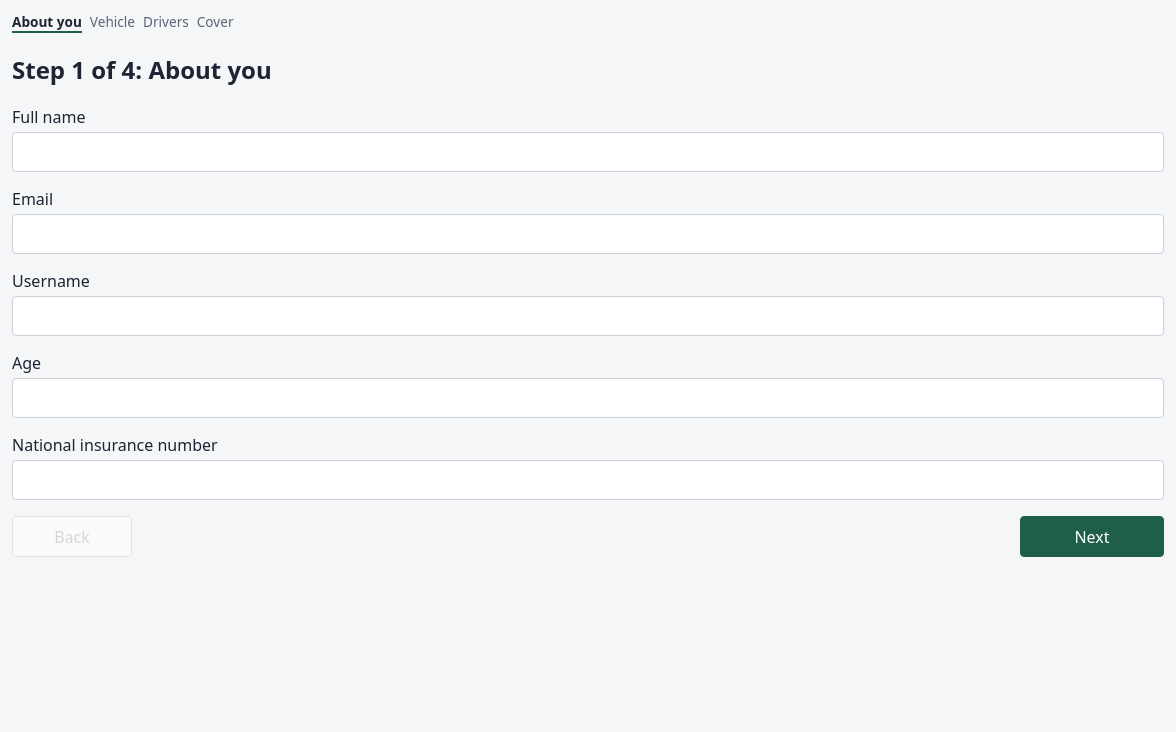
Test: moving between steps › Back does not validate, so a half-filled step can be left
This screenshot has width=1176, height=732.
Type "Sam Rao" into the field labelled "Full name".
click(588, 152); type("Sam Rao")  # box left=12, top=132, right=1164, bottom=172
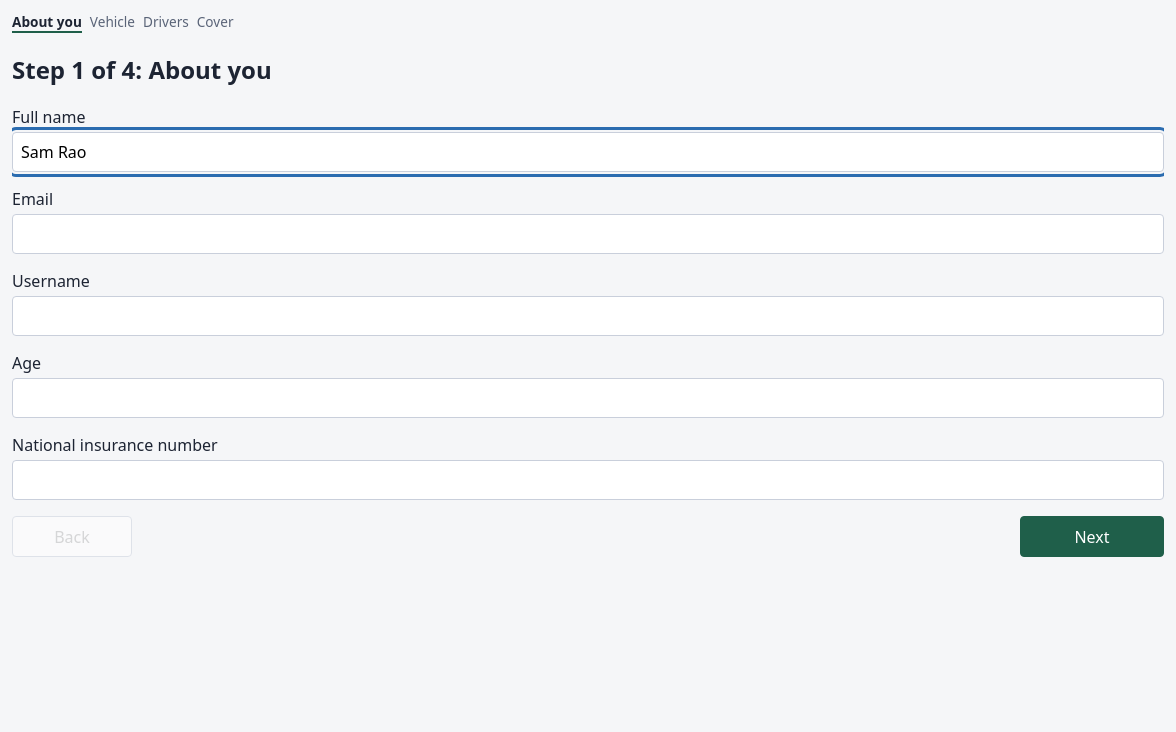
Type "sam@example.com" into the field labelled "Email".
click(588, 234); type("sam@example.com")  # box left=12, top=214, right=1164, bottom=254
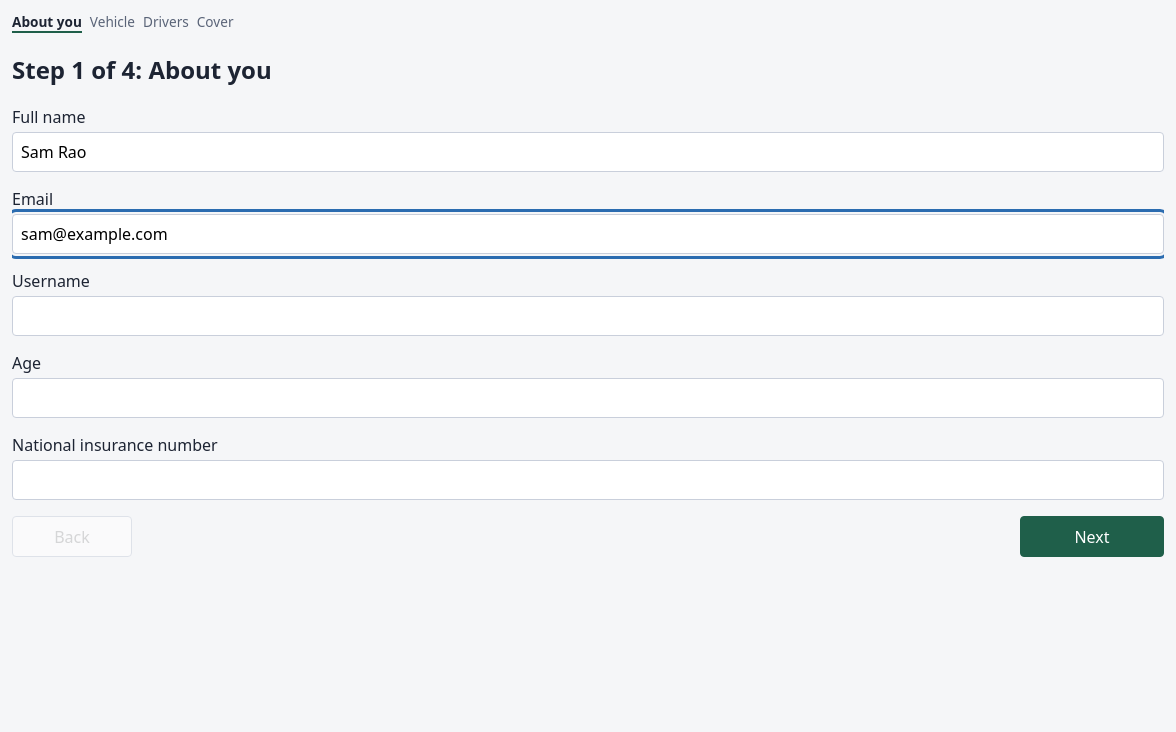
Type "sam_rao2" into the field labelled "Username".
click(588, 316); type("sam_rao2")  # box left=12, top=296, right=1164, bottom=336
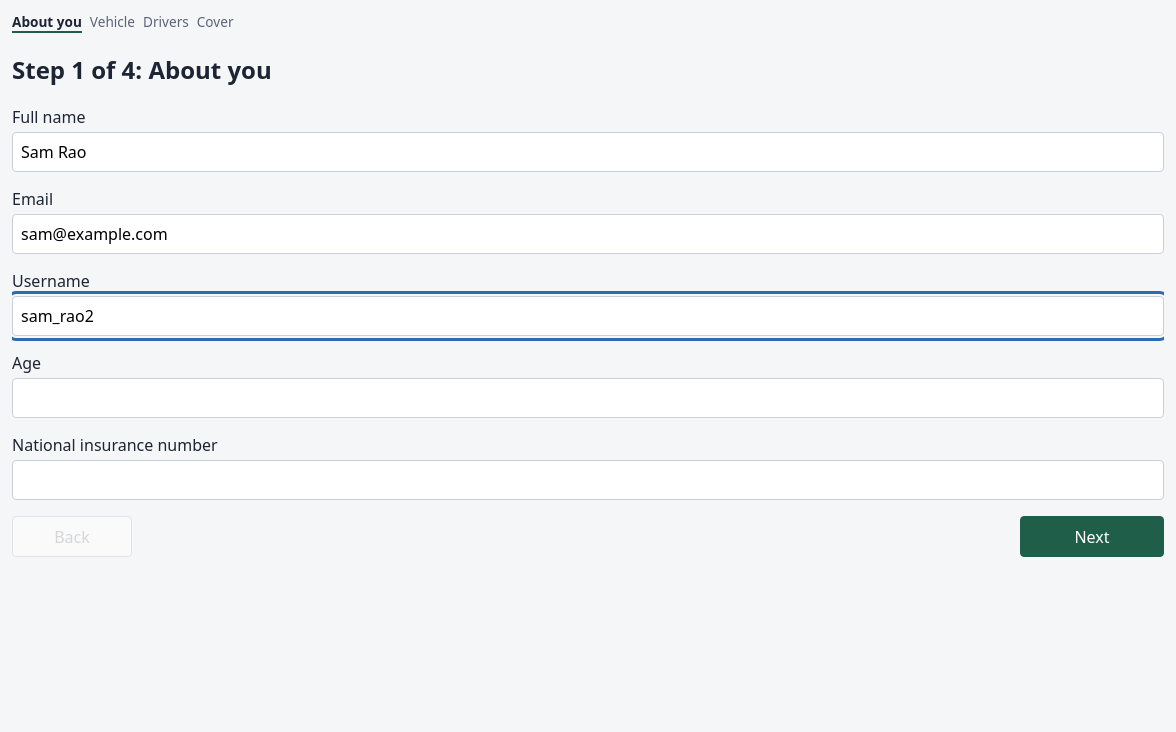
Type "34" into the number field labelled "Age".
click(588, 398); type("34")  # box left=12, top=378, right=1164, bottom=418
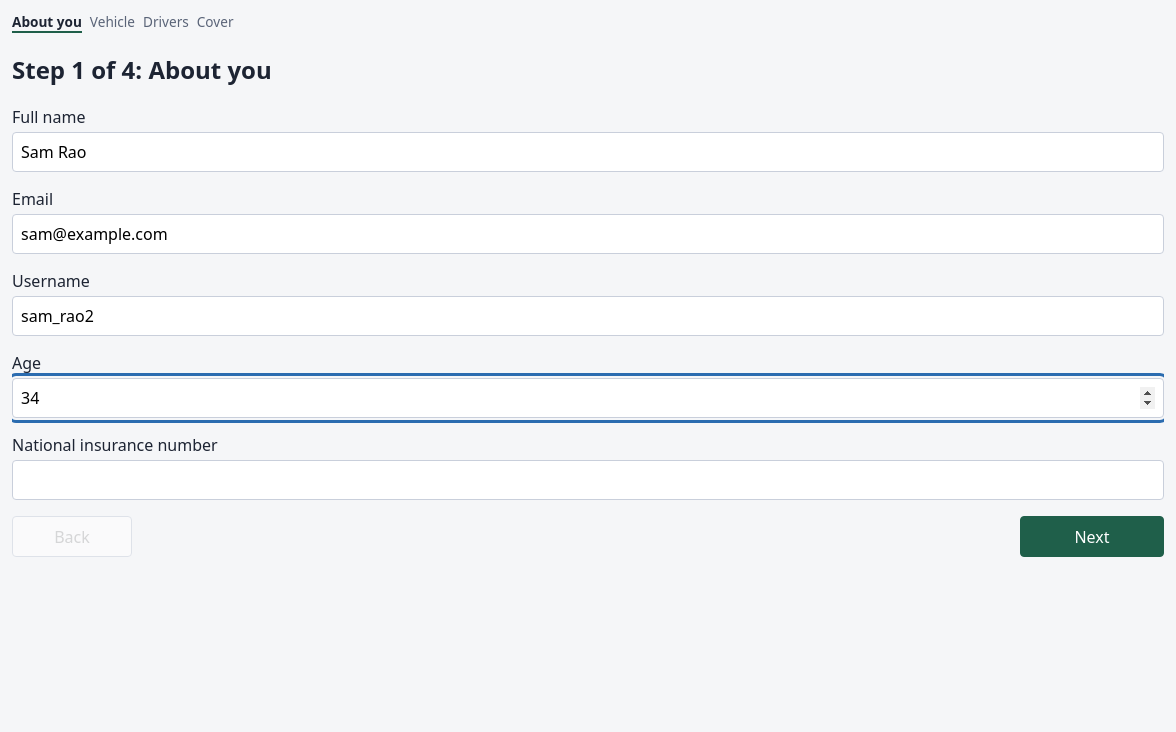
Click the button "Next".
click(1092, 537)  # box left=1020, top=516, right=1164, bottom=557
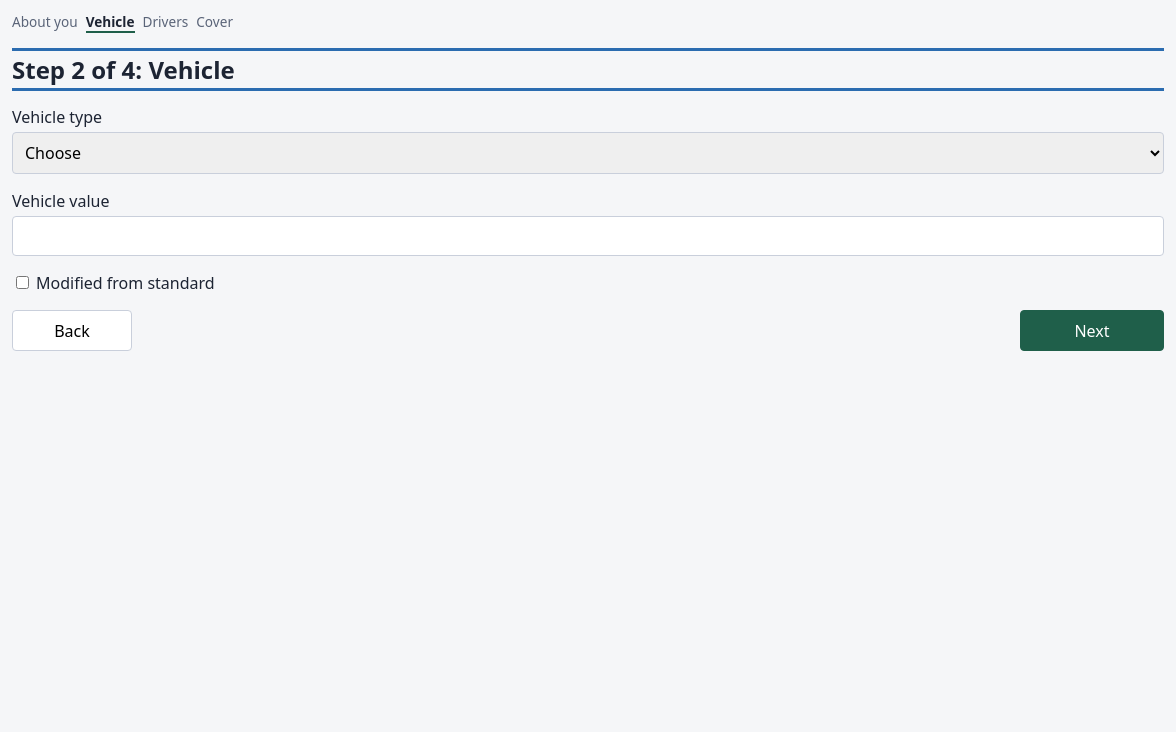
Click the button "Back".
click(72, 331)  # box left=12, top=310, right=132, bottom=351
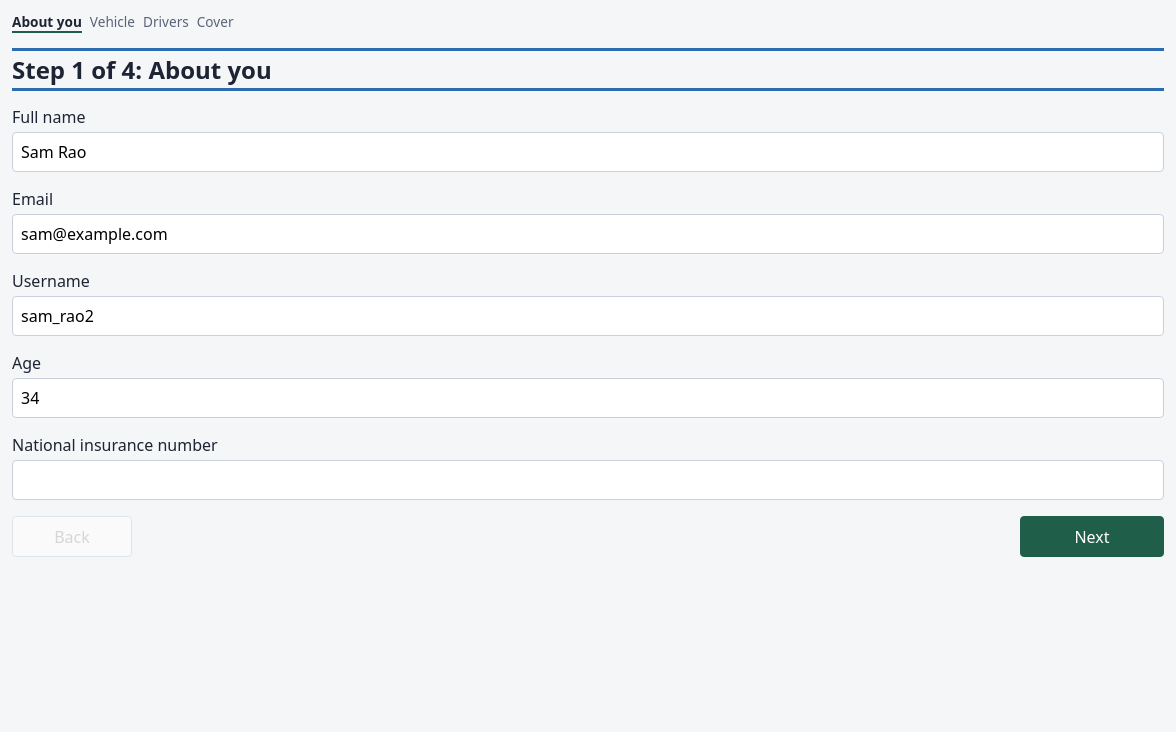
Now the heading shows "Step 1", box left=12, top=53, right=272, bottom=86
